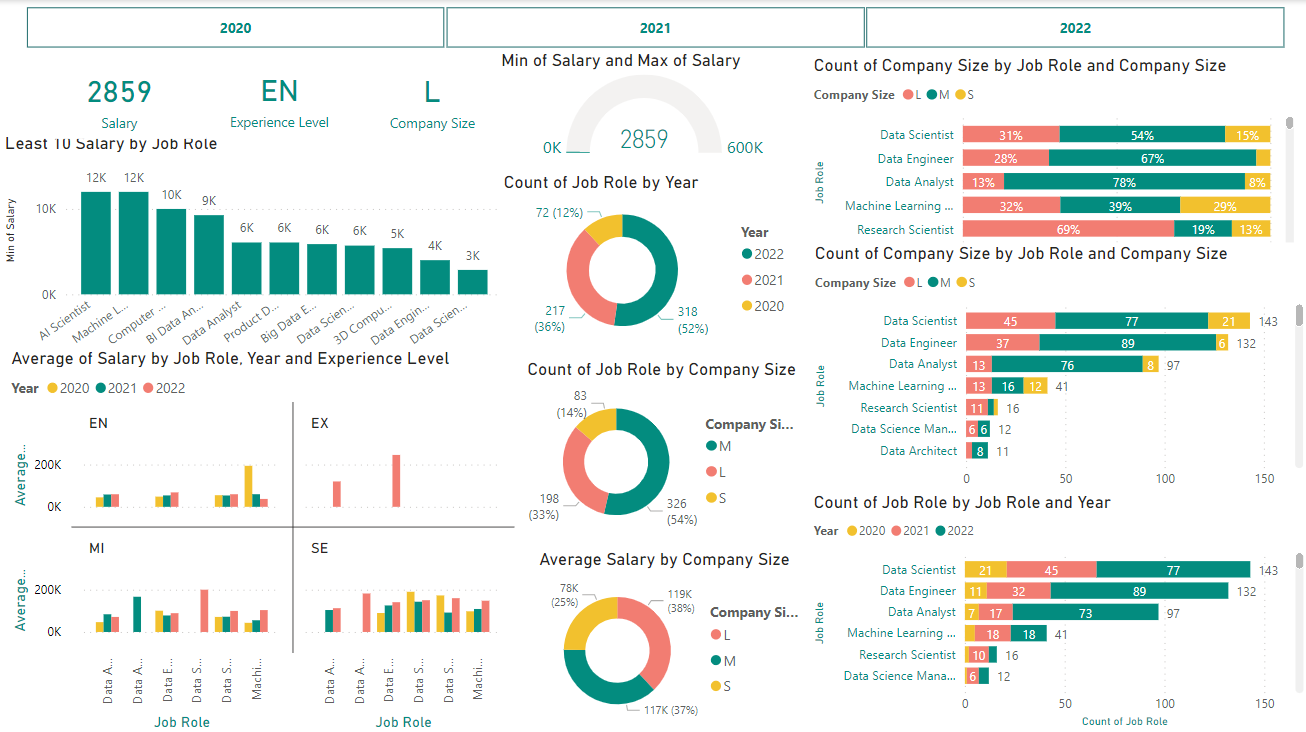

Layout of this report page (visuals, bound fields, positions):
{"tool":"powerbi","page":{"name":"Page 9","canvas":[1280,720],"ordinal":1},"visuals":[{"type":"hundredPercentStackedBarChart","fields":{"Category":["ds_salaries.job_title"],"Series":["ds_salaries.company_size"],"Y":["CountNonNull(ds_salaries.company_size)"]},"box":[791.1,53.6,479.3,228],"z":0},{"type":"slicer","fields":{"Values":["ds_salaries.work_year"]},"box":[0,0,1280,53.8],"z":1000},{"type":"lineStackedColumnComboChart","title":"Least 10 Salary by Job Role","fields":{"Category":["ds_salaries.job_title"],"Y":["Min(ds_salaries.salary_in_usd)"]},"box":[0,130,497.1,240],"z":2000},{"type":"clusteredColumnChart","fields":{"Category":["ds_salaries.job_title"],"Series":["ds_salaries.work_year"],"Rows":["ds_salaries.experience_level"],"Y":["Avg(ds_salaries.Salary)"]},"box":[6.1,339.8,503.6,380.2],"z":3000},{"type":"barChart","fields":{"Category":["ds_salaries.job_title"],"Series":["ds_salaries.company_size"],"Y":["CountNonNull(ds_salaries.company_size)"]},"box":[792.4,237.6,487.6,259.6],"z":4000},{"type":"card","fields":{"Values":["Min(ds_salaries.company_size)"]},"box":[341.9,53.3,161,85.2],"z":5000},{"type":"card","fields":{"Values":["Min(ds_salaries.experience_level)"]},"box":[195,56.7,155.1,78.5],"z":6000},{"type":"card","fields":{"Values":["Min(ds_salaries.salary_in_usd)"]},"box":[31.7,57.1,170,78.5],"z":7000},{"type":"gauge","fields":{"Y":["Min(ds_salaries.Salary)"],"MaxValue":["Max(ds_salaries.Salary)"]},"box":[484.8,49.4,306.9,110.3],"z":8000},{"type":"donutChart","title":"Average Salary by Company Size","fields":{"Category":["ds_salaries.company_size"],"Y":["Avg(ds_salaries.Salary)"]},"box":[508.6,537.1,282.9,180],"z":9000},{"type":"donutChart","fields":{"Y":["CountNonNull(ds_salaries.Job Role)"],"Category":["ds_salaries.Company Size"]},"box":[511.4,351.4,275.7,182.9],"z":10000},{"type":"barChart","fields":{"Series":["ds_salaries.Year"],"Y":["CountNonNull(ds_salaries.Job Role)"],"Category":["ds_salaries.Job Role"]},"box":[791.1,480.7,488.9,236.2],"z":11000},{"type":"donutChart","fields":{"Y":["CountNonNull(ds_salaries.Job Role)"],"Category":["ds_salaries.Year"]},"box":[487.1,167.1,292.9,174.3],"z":12000}]}

Visuals, with their boxes in screenshot pixels (x1, y1, x2, y2), scaled from the page's 1280x720 canvas onto the 1306x732 screenshot:
hundredPercentStackedBarChart - ds_salaries.job_title x ds_salaries.company_size: <region>807, 54, 1296, 286</region>
slicer - ds_salaries.work_year: <region>0, 0, 1305, 55</region>
"Least 10 Salary by Job Role" lineStackedColumnComboChart: <region>0, 132, 507, 376</region>
clusteredColumnChart - ds_salaries.job_title x ds_salaries.work_year: <region>6, 345, 520, 731</region>
barChart - ds_salaries.job_title x ds_salaries.company_size: <region>808, 242, 1305, 505</region>
card - Min(ds_salaries.company_size): <region>349, 54, 513, 141</region>
card - Min(ds_salaries.experience_level): <region>199, 58, 357, 137</region>
card - Min(ds_salaries.salary_in_usd): <region>32, 58, 206, 138</region>
gauge - Min(ds_salaries.Salary) x Max(ds_salaries.Salary): <region>495, 50, 808, 162</region>
"Average Salary by Company Size" donutChart: <region>519, 546, 808, 729</region>
donutChart - CountNonNull(ds_salaries.Job Role) x ds_salaries.Company Size: <region>522, 357, 803, 543</region>
barChart - ds_salaries.Year x CountNonNull(ds_salaries.Job Role): <region>807, 489, 1305, 729</region>
donutChart - CountNonNull(ds_salaries.Job Role) x ds_salaries.Year: <region>497, 170, 796, 347</region>
